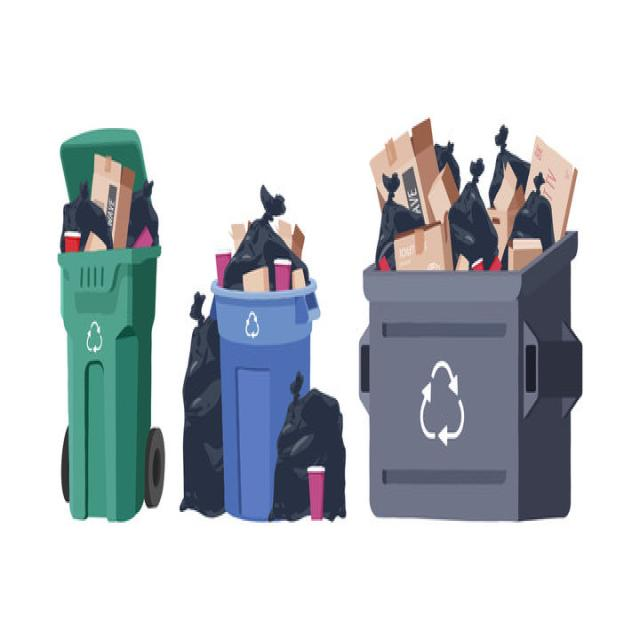cardboard: (90, 153, 130, 219), (398, 224, 449, 272), (434, 163, 452, 220), (240, 265, 267, 293), (228, 217, 246, 249), (277, 224, 303, 244)
trash: (283, 377, 345, 526), (182, 297, 223, 512), (463, 162, 493, 258), (374, 170, 414, 237), (63, 180, 102, 234), (524, 172, 554, 238), (140, 180, 158, 234)
